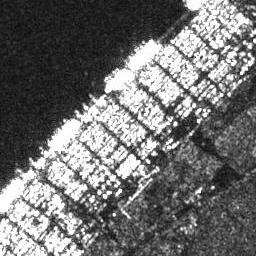ship: (45, 117, 79, 151), (126, 40, 159, 69), (1, 176, 22, 213), (102, 67, 128, 93)
